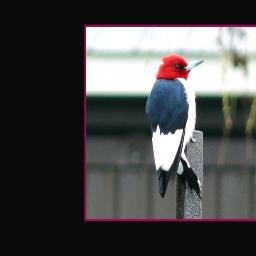Woodpecker: (145, 50, 205, 204)
